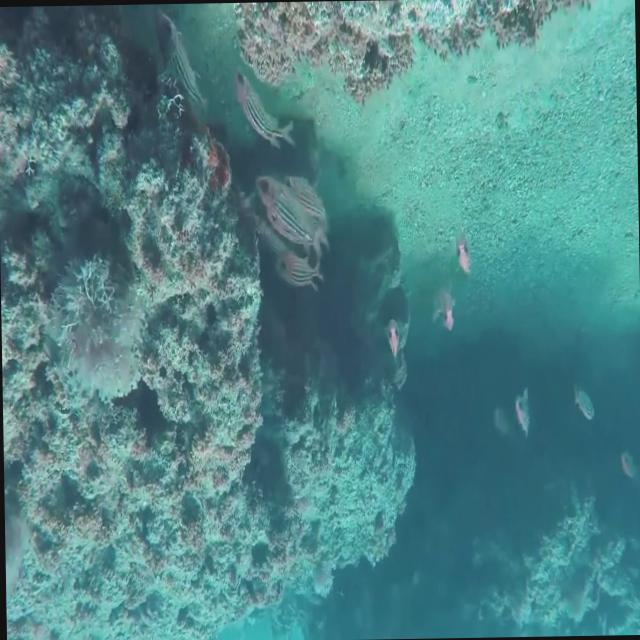Asker Baligi: (226, 54, 298, 160), (251, 168, 319, 246), (371, 309, 406, 358), (450, 237, 473, 275)
